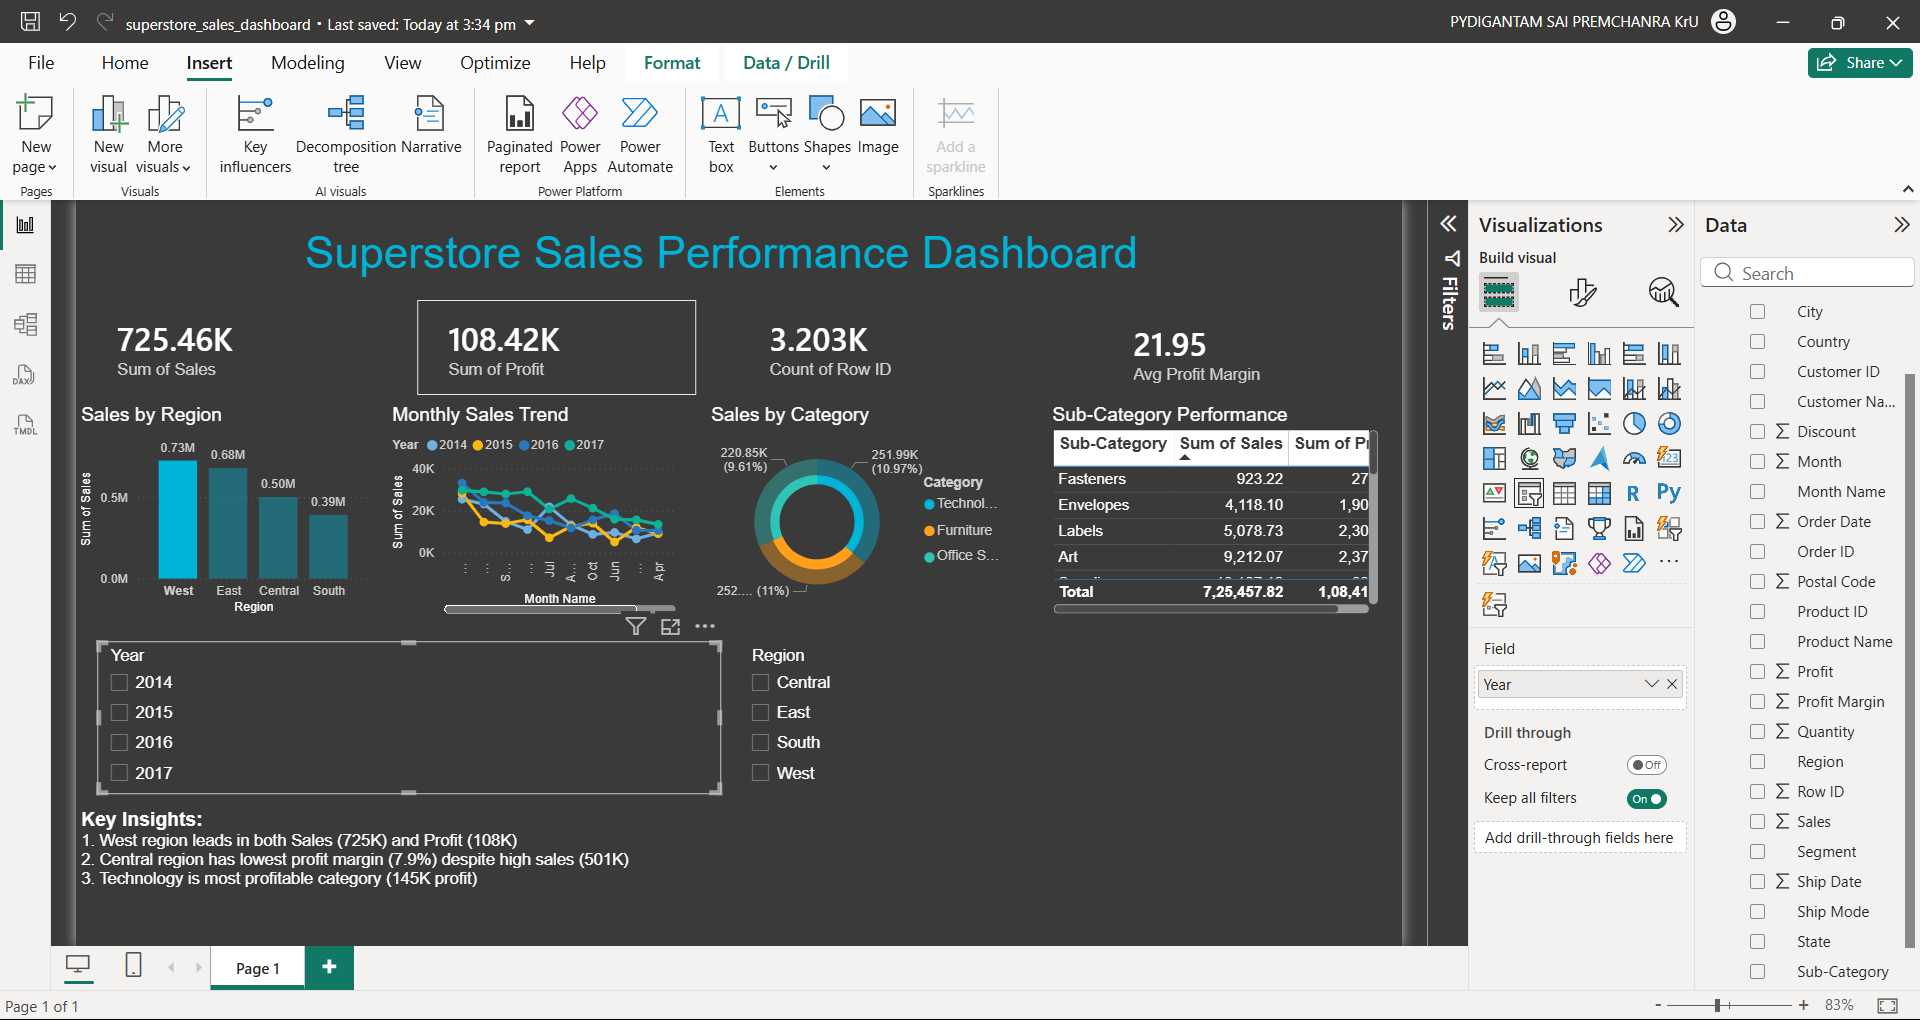

The page's visual inventory and layout, read from the dashboard file:
{"tool":"powerbi","page":{"name":"Page 1","canvas":[1280,720],"ordinal":0},"visuals":[{"type":"cardVisual","fields":{"Data":["Sum(Sheet1.Sales)"]},"box":[9.7,96.5,259.4,91.7],"z":0},{"type":"cardVisual","fields":{"Data":["Sheet1.Avg Profit Margin"]},"box":[990.5,96.5,255.8,100.1],"z":1000},{"type":"cardVisual","fields":{"Data":["CountNonNull(Sheet1.Row ID)"]},"box":[639.4,96.5,271.4,91.7],"z":2000},{"type":"cardVisual","fields":{"Data":["Sum(Sheet1.Profit)"]},"box":[329.4,96.5,269,91.7],"z":3000},{"type":"clusteredColumnChart","title":"Sales by Region","fields":{"Category":["Sheet1.Region"],"Y":["Sum(Sheet1.Sales)"]},"box":[0,196.6,288.3,207.5],"z":4000},{"type":"lineChart","title":"Monthly Sales Trend","fields":{"Category":["Sheet1.Month Name"],"Y":["Sum(Sheet1.Sales)"],"Series":["Sheet1.Year"]},"box":[300.4,196.6,283.5,207.5],"z":5000},{"type":"donutChart","title":" Sales by Category","fields":{"Y":["Sum(Sheet1.Sales)"],"Category":["Sheet1.Category"]},"box":[608,196.6,302.8,207.5],"z":6000},{"type":"tableEx","title":"Sub-Category Performance","fields":{"Values":["Sheet1.Sub-Category","Sum(Sheet1.Sales)","Sum(Sheet1.Profit)"]},"box":[937.4,196.6,324.5,207.5],"z":7000},{"type":"slicer","fields":{"Values":["Sheet1.Year"]},"box":[20.5,425.9,602,147.2],"z":8000},{"type":"slicer","fields":{"Values":["Sheet1.Region"]},"box":[639.4,425.9,640.6,147.2],"z":9000},{"type":"textbox","box":[0,22.1,1246.2,74.4],"z":10000},{"type":"textbox","box":[0,582.7,1246.3,126.7],"z":11000}]}

Visuals, with their boxes on the page's 1280x720 design canvas (x1, y1, x2, y2). These are canvas units, not pixel positions in the 1920x1020 screenshot, which may show the page scaled, cropped or inside an application window:
cardVisual - Sum(Sheet1.Sales): BBox(10, 96, 269, 188)
cardVisual - Sheet1.Avg Profit Margin: BBox(990, 96, 1246, 197)
cardVisual - CountNonNull(Sheet1.Row ID): BBox(639, 96, 911, 188)
cardVisual - Sum(Sheet1.Profit): BBox(329, 96, 598, 188)
"Sales by Region" clusteredColumnChart: BBox(0, 197, 288, 404)
"Monthly Sales Trend" lineChart: BBox(300, 197, 584, 404)
" Sales by Category" donutChart: BBox(608, 197, 911, 404)
"Sub-Category Performance" tableEx: BBox(937, 197, 1262, 404)
slicer - Sheet1.Year: BBox(20, 426, 622, 573)
slicer - Sheet1.Region: BBox(639, 426, 1280, 573)
textbox: BBox(0, 22, 1246, 96)
textbox: BBox(0, 583, 1246, 709)
